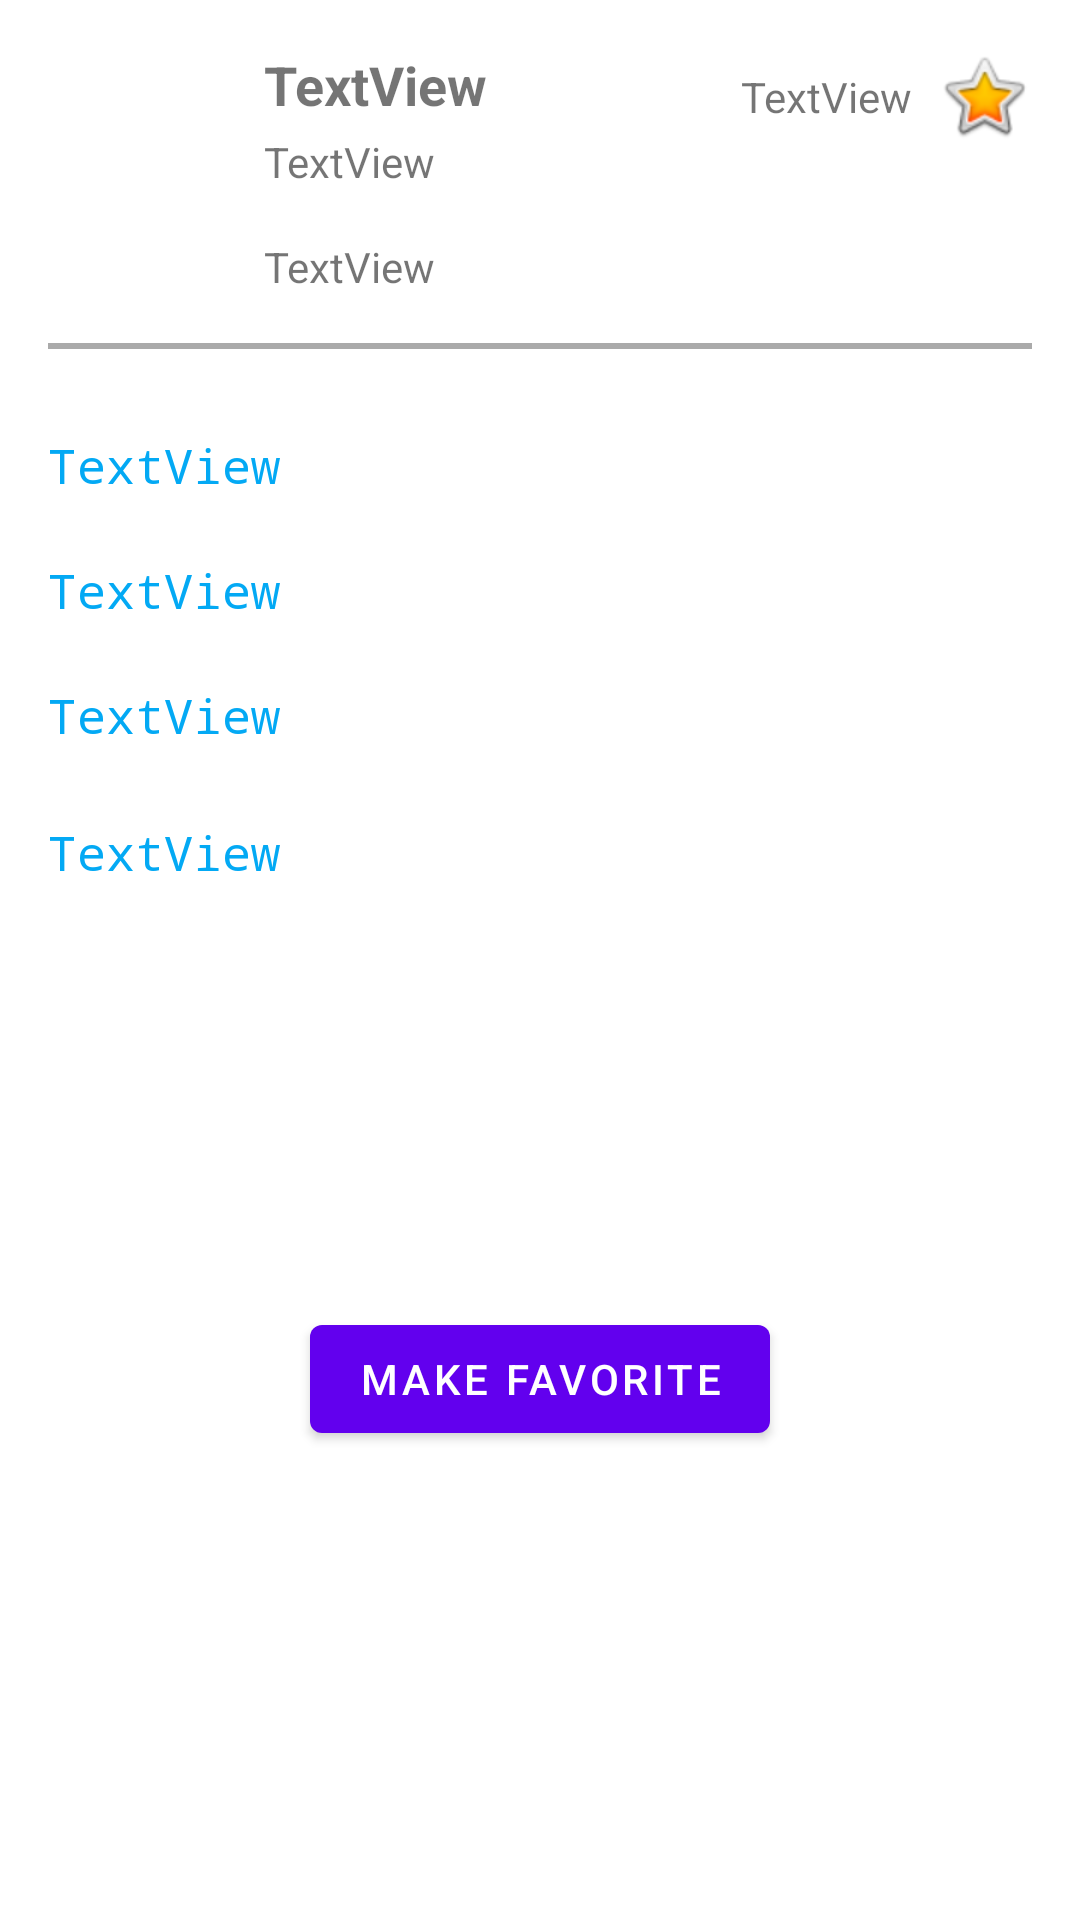

Named icons in this screenshot (1080px×1920px) and their centers, [x,y]:
star on: [985,97]
